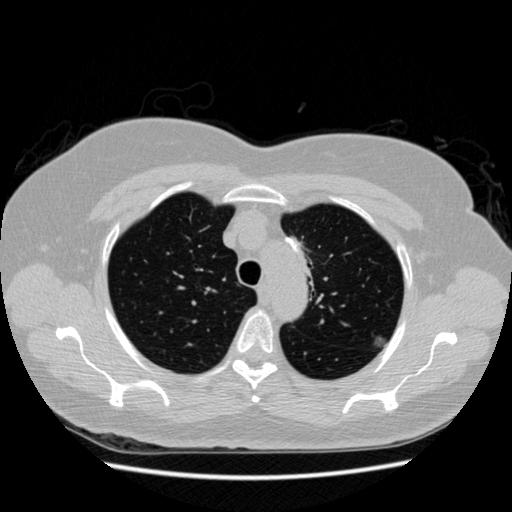nodule: (371, 333, 388, 350)
